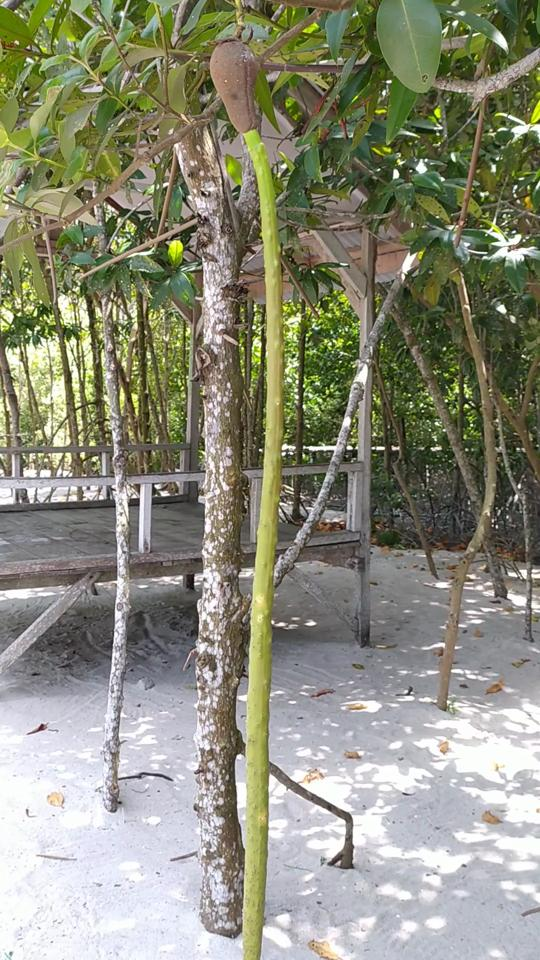mentah: (194, 26, 308, 958)
